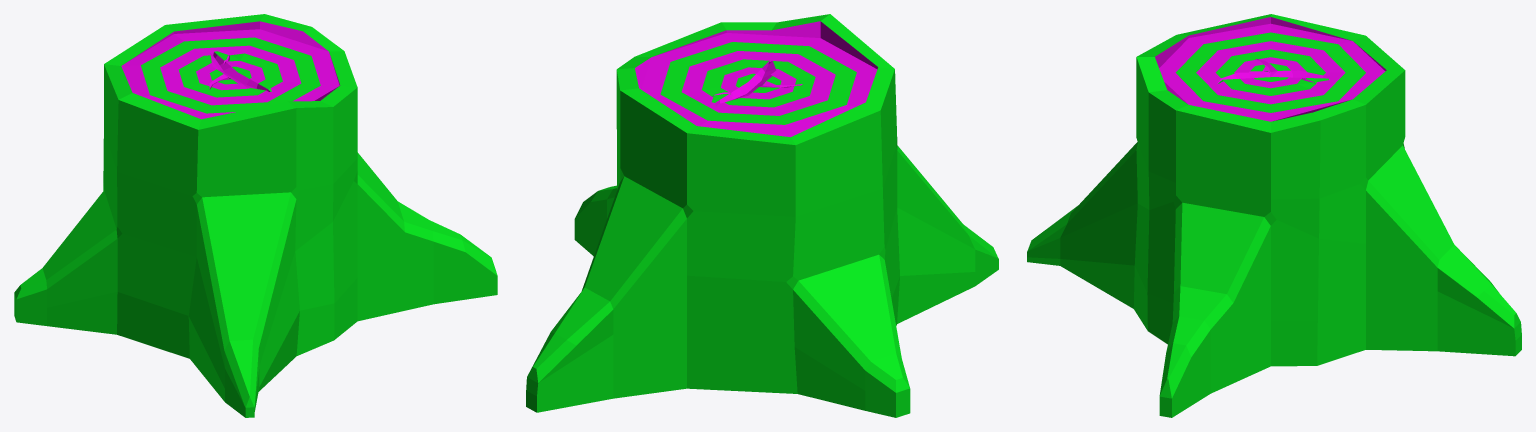
The model's file is Stronkie.fbx.
3 renders of one model, left to right at view 1: azimuth 30°, elevation 25°; view 2: azimuth 150°, elevation 25°; view 3: azimuth 270°, elevation 25°, orthographic. The views are drawn at different scales.
Visible parts, largest first — view 1: Cylinder; view 2: Cylinder; view 3: Cylinder.
Part boxes in pixels (bbox=[...]): Cylinder: bbox=[14, 14, 497, 417]; Cylinder: bbox=[526, 14, 998, 417]; Cylinder: bbox=[1027, 14, 1521, 417].
Size of the model in its own units: 112 by 68.24 by 120.
